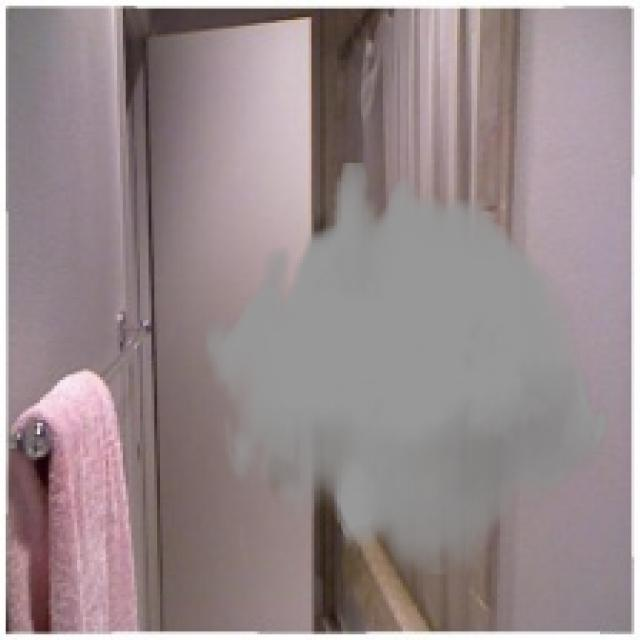smoke: (203, 163, 611, 574)
